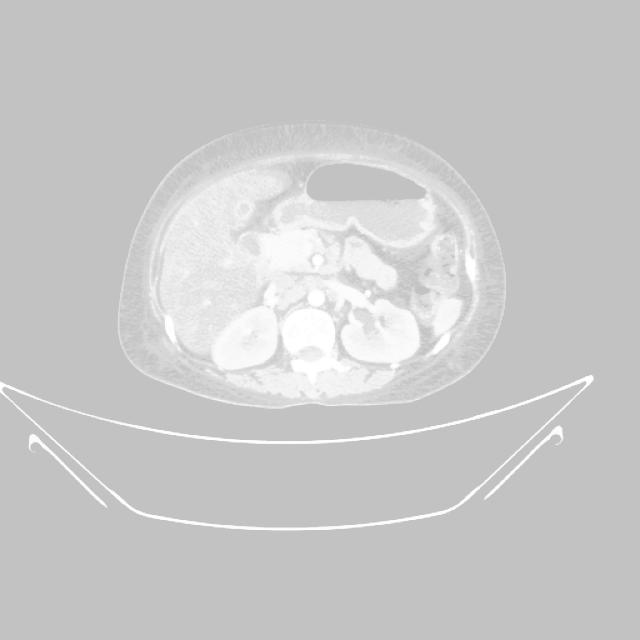NORMAL: (97, 123, 513, 403)
